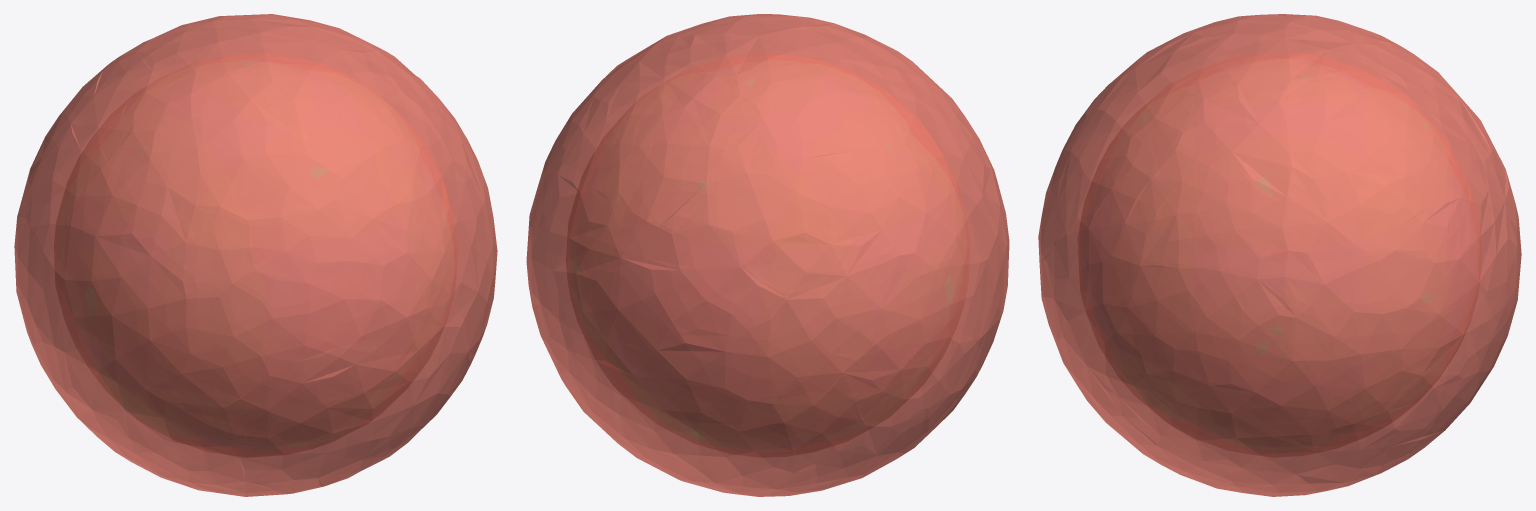
3 views of the same model, side by side, from view 1: azimuth 30°, elevation 25°; view 2: azimuth 150°, elevation 25°; view 3: azimuth 270°, elevation 25° (orthographic).
Visible parts, largest first — view 1: W_n6_s_ml0_node, W_n5_s_ml0_node; view 2: W_n6_s_ml0_node, W_n5_s_ml0_node; view 3: W_n6_s_ml0_node, W_n5_s_ml0_node.
Boxes of the visible parts, x1,y1,x2,y2 form: W_n6_s_ml0_node: (14, 14, 497, 496); W_n5_s_ml0_node: (54, 53, 457, 457); W_n6_s_ml0_node: (526, 14, 1009, 496); W_n5_s_ml0_node: (566, 53, 969, 457); W_n6_s_ml0_node: (1038, 14, 1521, 496); W_n5_s_ml0_node: (1078, 53, 1481, 457).
Size of the model in its own units: 3.06 by 3.06 by 3.06.
